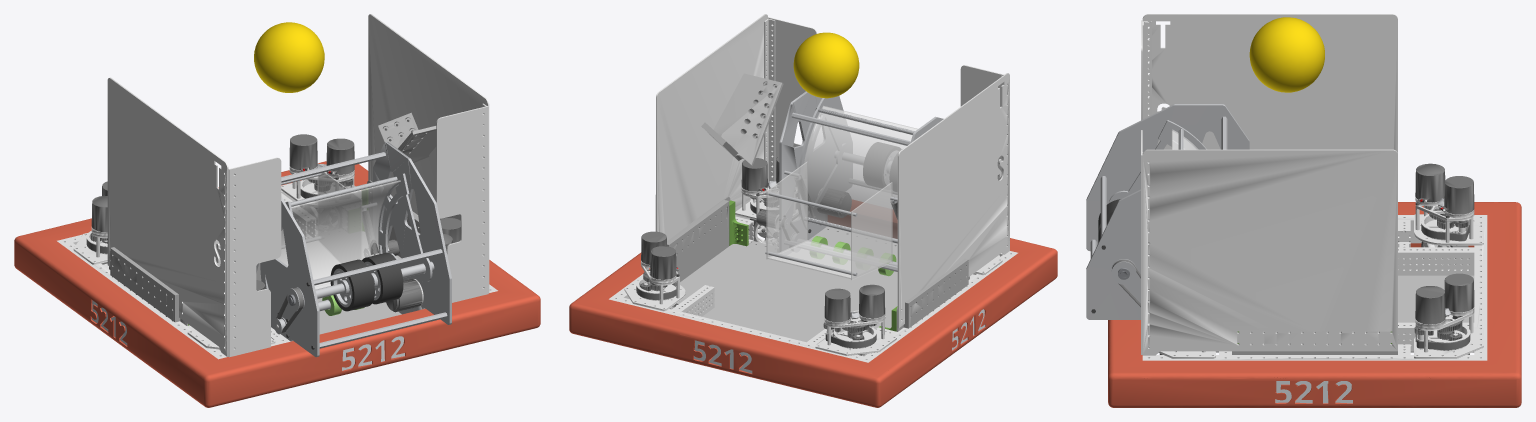
File: robot.glb
The picture shows the model from 3 angles, left to right: view 1: azimuth 30°, elevation 25°; view 2: azimuth 150°, elevation 25°; view 3: azimuth 270°, elevation 25°; orthographic projection. The views are drawn at different scales.
Visible parts, largest first — view 1: Colour_f5f5f5, Colour_e1664c, Aluminium, Colour_ffffff_alpha, Colour_7f7f7f, Colour_bababa, Colour_fcda15, Colour_f3f3f3, Tread, Colour_cacaca, Colour_e8eef3; view 2: Colour_f5f5f5, Colour_e1664c, Colour_ffffff_alpha, Colour_cacaca, Aluminium, Colour_bababa, Colour_7f7f7f, Colour_f3f3f3, Colour_fcda15, Tread, Colour_e8eef3, Colour_78af50 (+1 smaller); view 3: Colour_f5f5f5, Colour_e1664c, Aluminium, Colour_7f7f7f, Colour_f3f3f3, Colour_fcda15, Colour_cacaca, Colour_bababa, Colour_e8eef3.
Boxes of the visible parts, x1,y1,x2,y2 form: Colour_f5f5f5: (57, 14, 497, 359); Colour_e1664c: (14, 161, 540, 407); Aluminium: (256, 141, 451, 357); Colour_ffffff_alpha: (256, 167, 400, 289); Colour_7f7f7f: (86, 134, 460, 312); Colour_bababa: (109, 112, 436, 325); Colour_fcda15: (254, 22, 324, 92); Colour_f3f3f3: (73, 103, 486, 350); Tread: (330, 252, 403, 311); Colour_cacaca: (215, 230, 402, 344); Colour_e8eef3: (92, 300, 404, 370); Colour_f5f5f5: (609, 14, 1017, 362); Colour_e1664c: (569, 200, 1057, 407); Colour_ffffff_alpha: (766, 105, 917, 280); Colour_cacaca: (676, 226, 897, 349); Aluminium: (765, 91, 943, 319); Colour_bababa: (667, 73, 969, 331); Colour_7f7f7f: (636, 156, 976, 355); Colour_f3f3f3: (624, 18, 1002, 356); Colour_fcda15: (793, 32, 859, 98); Tread: (863, 142, 901, 191); Colour_e8eef3: (694, 309, 985, 373); Colour_78af50: (729, 200, 897, 331); Colour_f5f5f5: (1141, 14, 1487, 383); Colour_e1664c: (1108, 202, 1521, 407); Aluminium: (1086, 104, 1450, 319); Colour_7f7f7f: (1159, 163, 1474, 354); Colour_f3f3f3: (1142, 21, 1483, 358); Colour_fcda15: (1249, 17, 1324, 92); Colour_cacaca: (1216, 258, 1474, 352); Colour_bababa: (1232, 331, 1397, 354); Colour_e8eef3: (1275, 381, 1352, 403).
Size of the model in its own units: 0.823 by 0.6792 by 0.8666.
